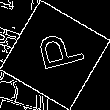P_W: (26, 30, 84, 80)
